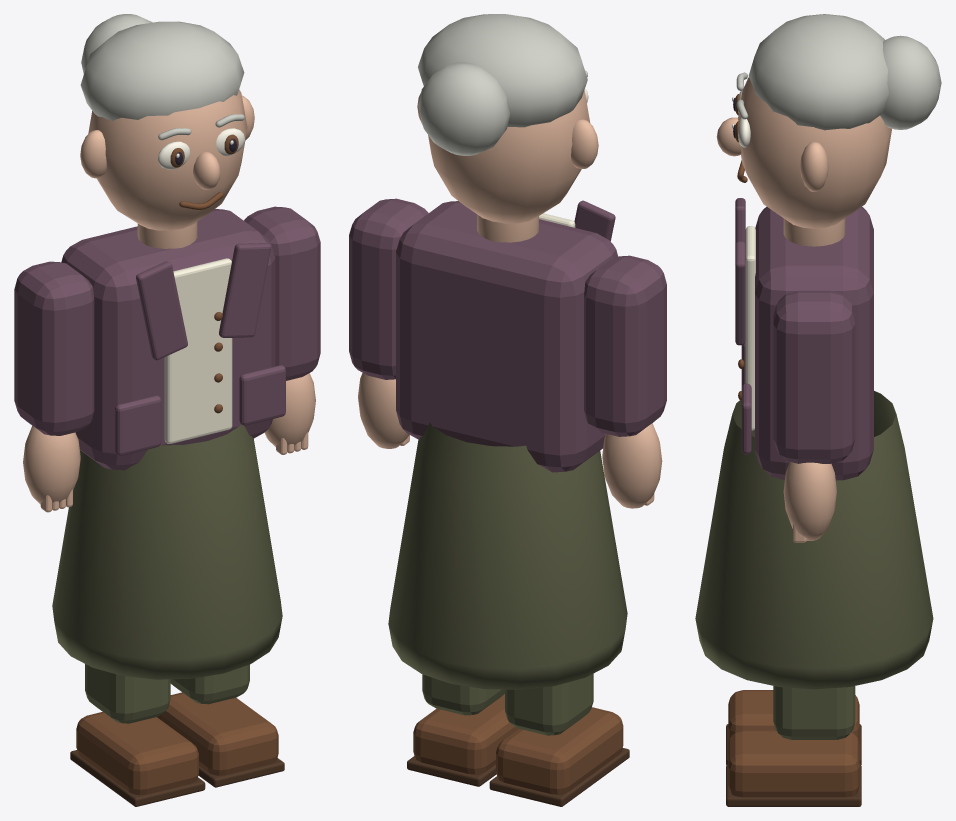
File: resident_2.glb
3 renders of one model, left to right at view 1: azimuth 30°, elevation 25°; view 2: azimuth 150°, elevation 25°; view 3: azimuth 270°, elevation 25°, orthographic. The views are drawn at different scales.
Parts seen in each view (by area): view 1: Long_skirt, Jacket_body, Jacket_sleeve, Hair_cap, Face, Shirt_front, Jacket_sleeve.001, Leather_shoe, Leather_shoe.001, Trouser_leg, Lapel.001, Hand (+11 smaller); view 2: Long_skirt, Jacket_body, Jacket_sleeve, Hair_cap, Face, Jacket_sleeve.001, Leather_shoe, Silver_bun, Leather_shoe.001, Hand, Trouser_leg, Hand.001 (+6 smaller); view 3: Long_skirt, Jacket_body, Jacket_sleeve.001, Hair_cap, Face, Leather_shoe.001, Silver_bun, Trouser_leg.001, Hand.001, Leather_shoe, Shirt_front, Sole.001 (+6 smaller).
Boxes of the visible parts, x1,y1,x2,y2 form: Long_skirt: [52, 424, 282, 679]; Jacket_body: [61, 209, 275, 470]; Jacket_sleeve: [14, 261, 94, 435]; Hair_cap: [80, 21, 244, 121]; Face: [88, 89, 247, 230]; Shirt_front: [164, 258, 232, 443]; Jacket_sleeve.001: [244, 206, 320, 380]; Leather_shoe: [76, 712, 198, 795]; Leather_shoe.001: [157, 692, 278, 775]; Trouser_leg: [85, 664, 170, 723]; Lapel.001: [219, 243, 270, 337]; Hand: [23, 426, 80, 504]; Long_skirt: [388, 422, 627, 689]; Jacket_body: [396, 201, 617, 472]; Jacket_sleeve: [584, 255, 666, 436]; Hair_cap: [418, 14, 587, 127]; Face: [428, 90, 590, 223]; Jacket_sleeve.001: [349, 198, 428, 379]; Leather_shoe: [496, 707, 623, 794]; Silver_bun: [418, 62, 509, 155]; Leather_shoe.001: [413, 694, 518, 774]; Hand: [602, 423, 662, 508]; Trouser_leg: [505, 673, 593, 735]; Hand.001: [358, 373, 409, 448]; Long_skirt: [695, 391, 933, 689]; Jacket_body: [755, 206, 873, 480]; Jacket_sleeve.001: [773, 290, 855, 463]; Hair_cap: [748, 14, 888, 130]; Face: [738, 77, 891, 228]; Leather_shoe.001: [728, 730, 859, 797]; Silver_bun: [880, 35, 941, 129]; Trouser_leg.001: [773, 686, 855, 739]; Hand.001: [783, 462, 836, 540]; Leather_shoe: [728, 690, 859, 743]; Shirt_front: [745, 226, 755, 430]; Sole.001: [726, 764, 861, 806].
Bounding box in the file's own units: 0.83 × 2 × 0.6.
